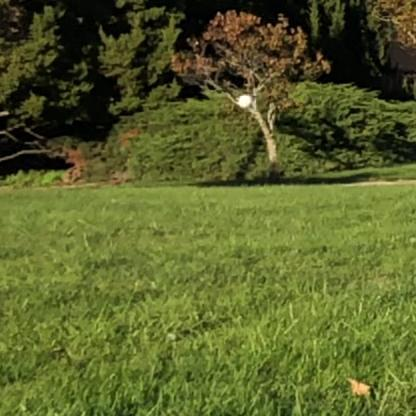golfball: (235, 91, 250, 108)
